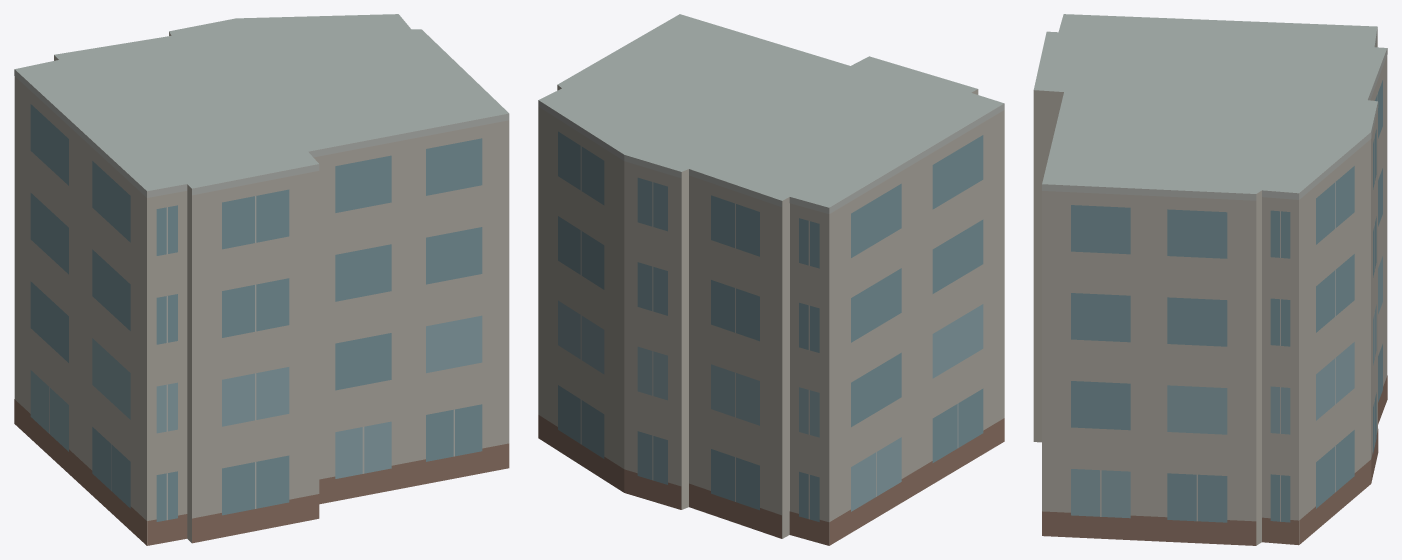
Rendered from survey-upis-33044386.glb.
The picture shows the model from 3 angles, left to right: view 1: azimuth 30°, elevation 25°; view 2: azimuth 150°, elevation 25°; view 3: azimuth 270°, elevation 25°; orthographic projection. The views are drawn at different scales.
Parts seen in each view (by area): view 1: survey-upis-33044386.tmp; view 2: survey-upis-33044386.tmp; view 3: survey-upis-33044386.tmp.
Boxes of the visible parts, x1=… form: survey-upis-33044386.tmp: x1=14, y1=14, x2=509, y2=545; survey-upis-33044386.tmp: x1=538, y1=14, x2=1004, y2=545; survey-upis-33044386.tmp: x1=1033, y1=14, x2=1387, y2=545.
Bounding box in the file's own units: 14.06 × 12.8 × 11.67.
